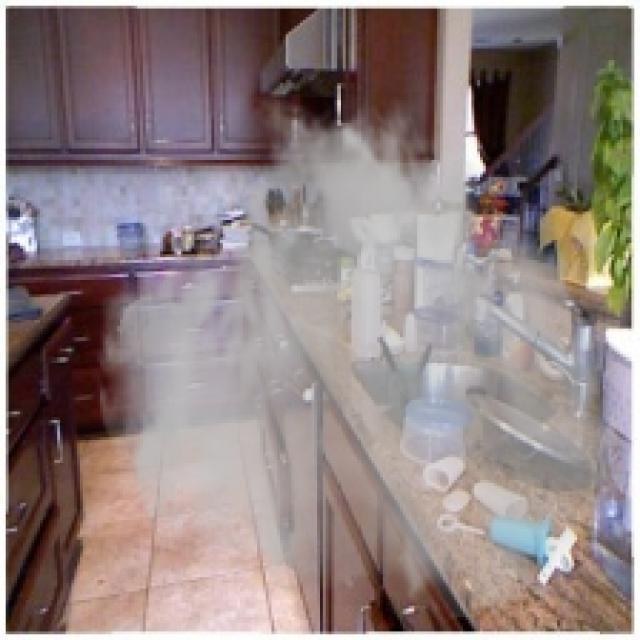Smoke: (91, 86, 626, 623)
